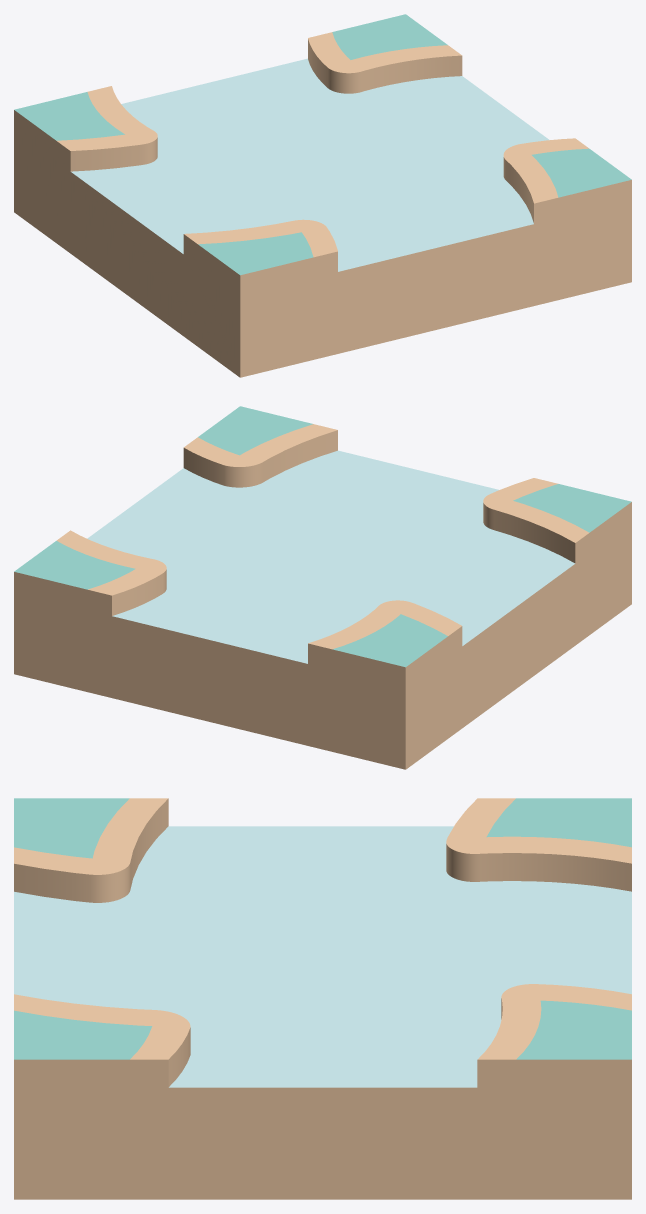
The model's file is ground_dirtRiverCrossing.glb.
3 views of the same model, one above another, from view 1: azimuth 30°, elevation 25°; view 2: azimuth 150°, elevation 25°; view 3: azimuth 270°, elevation 25° (orthographic). The views are drawn at different scales.
Visible parts, largest first — view 1: ground_dirtRiverCrossing; view 2: ground_dirtRiverCrossing; view 3: ground_dirtRiverCrossing.
Part boxes in pixels (x1,y1,x2,y2): ground_dirtRiverCrossing: (14,14,631,377); ground_dirtRiverCrossing: (14,406,631,769); ground_dirtRiverCrossing: (14,798,631,1199).
Size of the model in its own units: 1 by 0.25 by 1.
